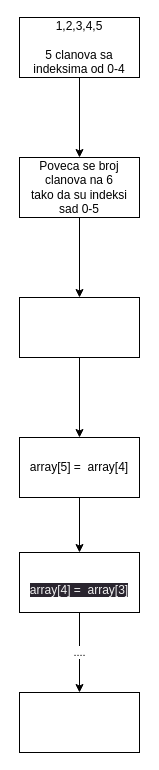
This 159x770 diagram has some shape labels left out. The centre of each missing label's shape, as x and y in pixels:
"array[0] = broj_koji_zelimo_dodati" goes at pixel 79 722.
"Idemo petljom od i=6 do 1" goes at pixel 79 327.
